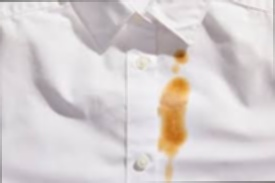coffee: (163, 80, 186, 147), (176, 50, 188, 64)
